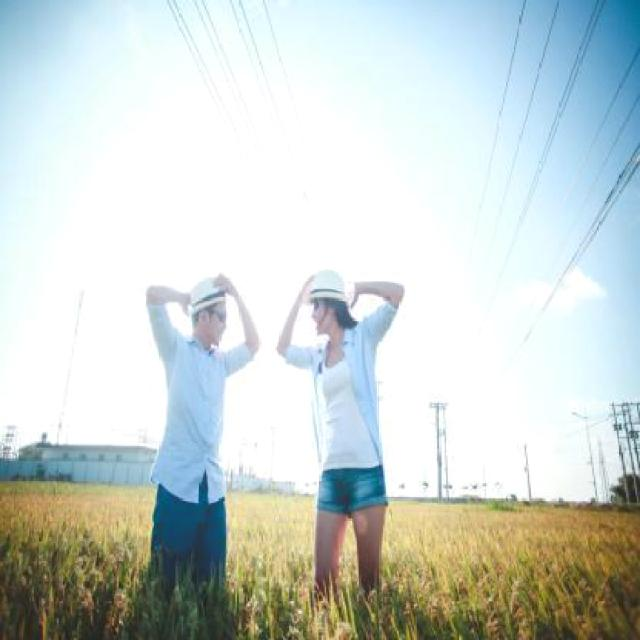face_nomask: (208, 302, 230, 346), (309, 295, 329, 333)
glasses: (212, 308, 228, 324)
head_nohelmet: (300, 266, 352, 302), (184, 275, 228, 310)
person: (277, 262, 408, 613), (135, 267, 262, 599)
